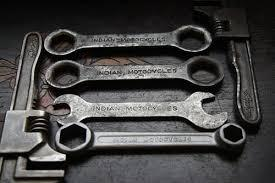wrench: (0, 29, 66, 181), (44, 53, 224, 92), (52, 122, 245, 157), (50, 92, 226, 130), (43, 23, 213, 58)
